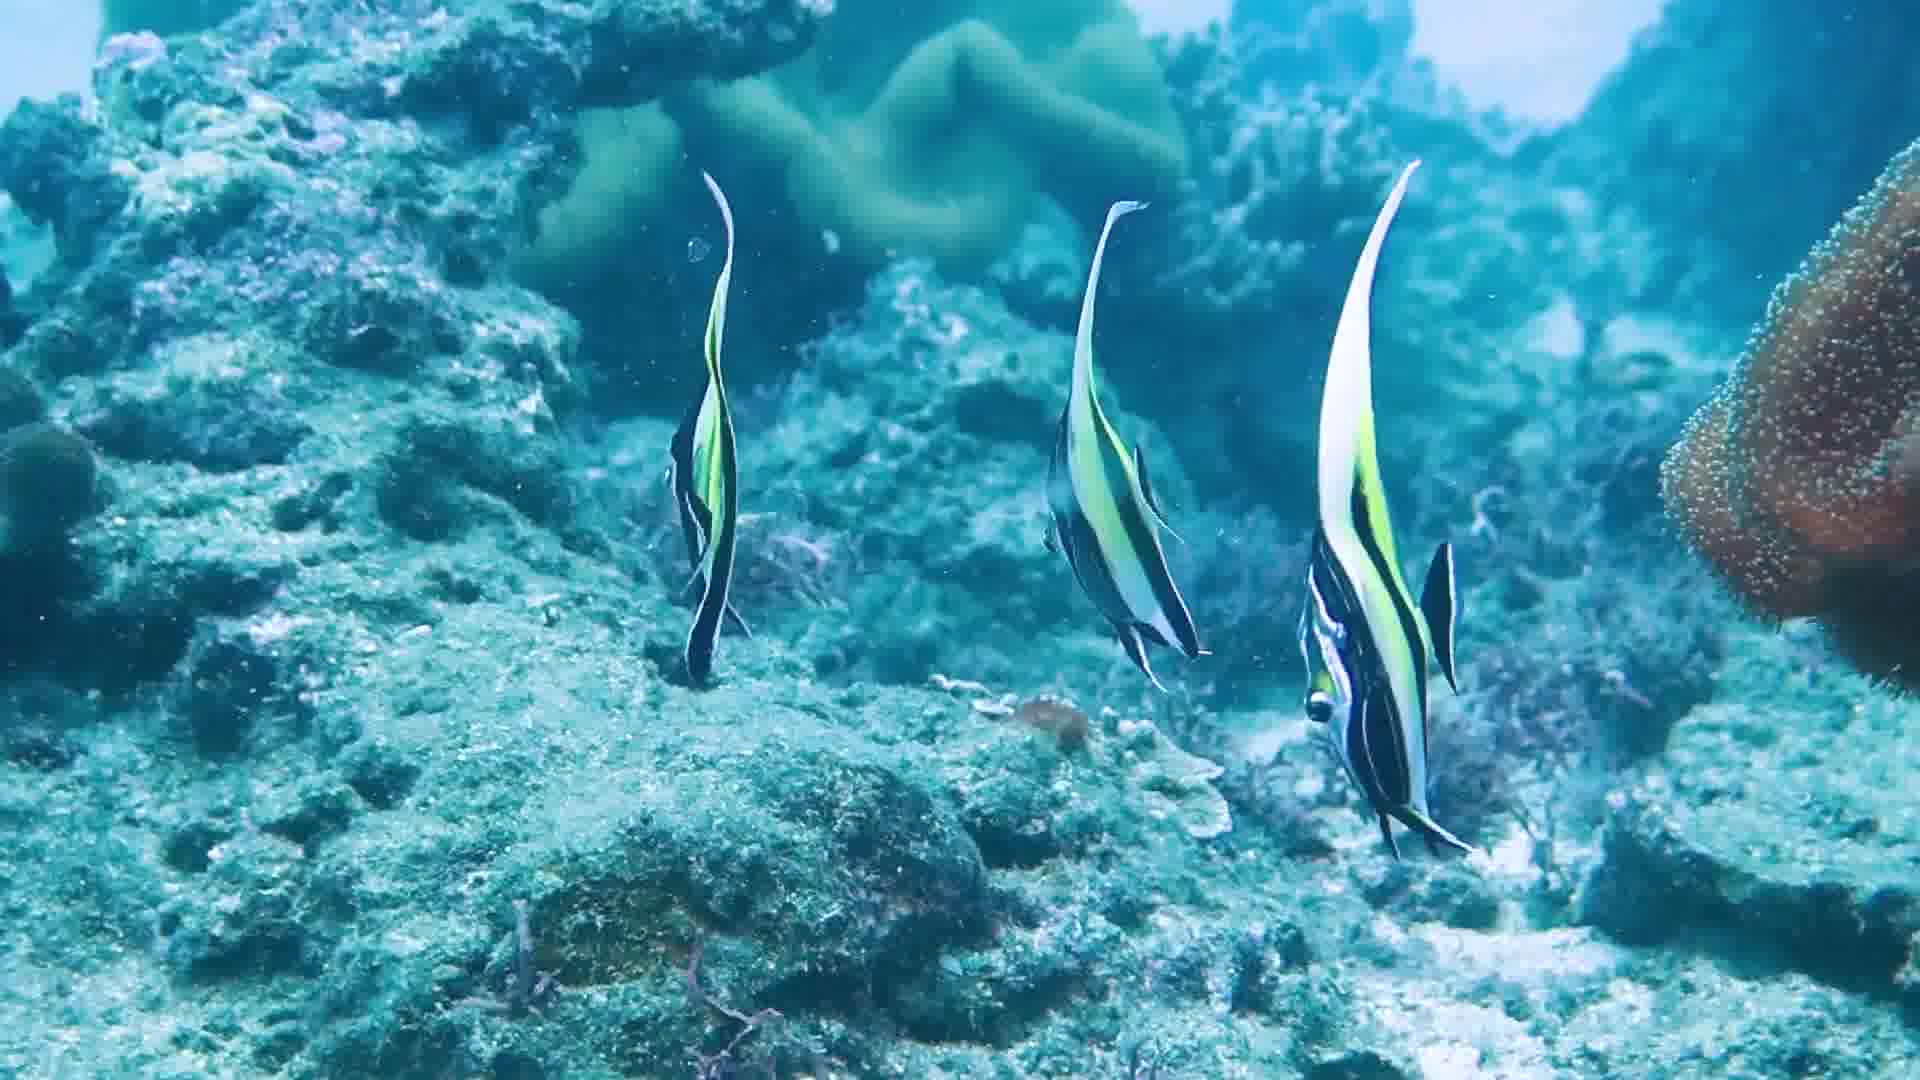Zanclus cornutus: (1274, 373, 1507, 860), (998, 319, 1211, 698), (618, 290, 775, 673)
